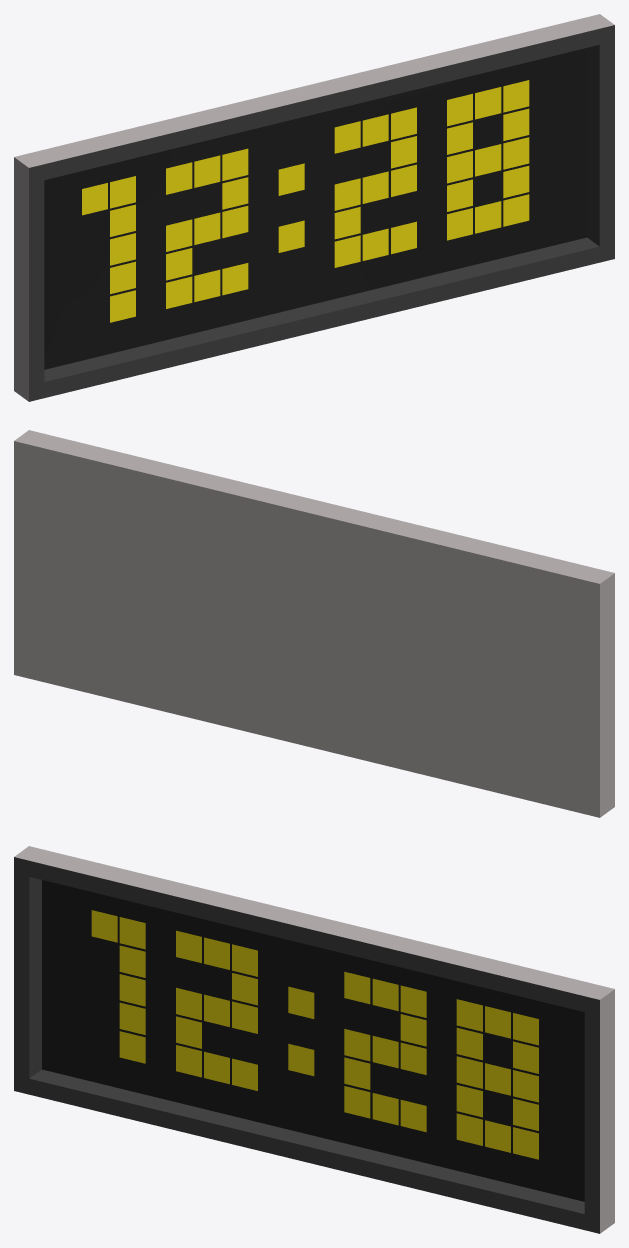
Rendered from prop_103.glb.
3 renders of one model, top to bottom at view 1: azimuth 30°, elevation 25°; view 2: azimuth 150°, elevation 25°; view 3: azimuth 330°, elevation 25°, orthographic.
Parts seen in each view (by area): view 1: prop_103; view 2: prop_103; view 3: prop_103.
Boxes of the visible parts, x1,y1,x2,y2 form: prop_103: [14, 14, 614, 401]; prop_103: [14, 430, 614, 817]; prop_103: [14, 846, 614, 1233].
Size of the model in its own units: 1.11 by 0.4236 by 0.0492.
1 material, 1 textured.
